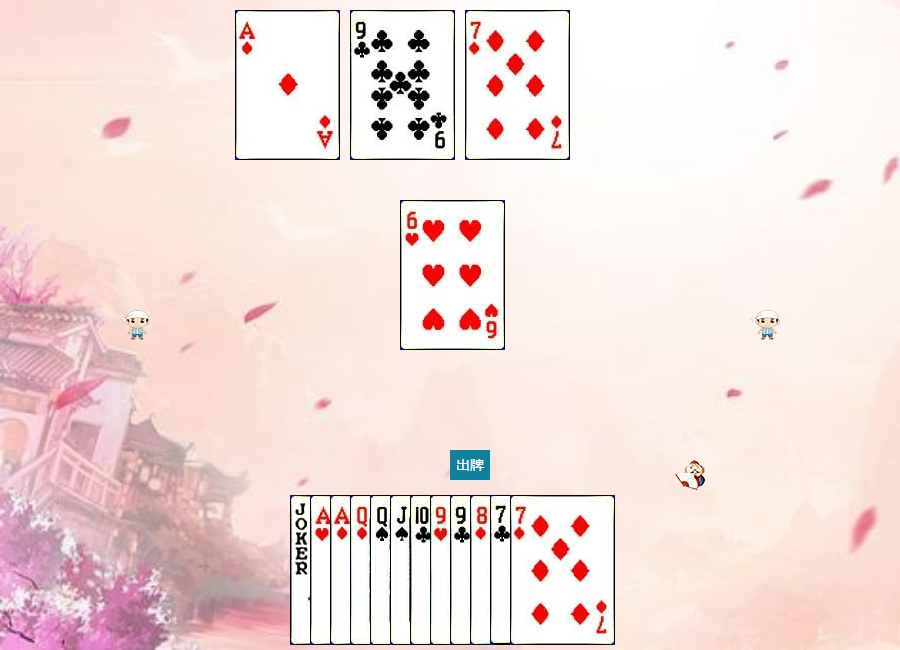10~2: (410, 495, 515, 645)
11~4: (390, 495, 495, 645)
12~1: (350, 495, 455, 645)
12~4: (370, 495, 475, 645)
14~1: (235, 10, 340, 160), (330, 495, 435, 645)
14~3: (310, 495, 415, 645)
17~3: (290, 495, 395, 645)
6~3: (400, 200, 505, 350)
7~1: (465, 10, 570, 160), (510, 495, 615, 645)
7~2: (490, 495, 595, 645)
8~1: (470, 495, 575, 645)
9~2: (350, 10, 455, 160), (450, 495, 555, 645)
9~3: (430, 495, 535, 645)
